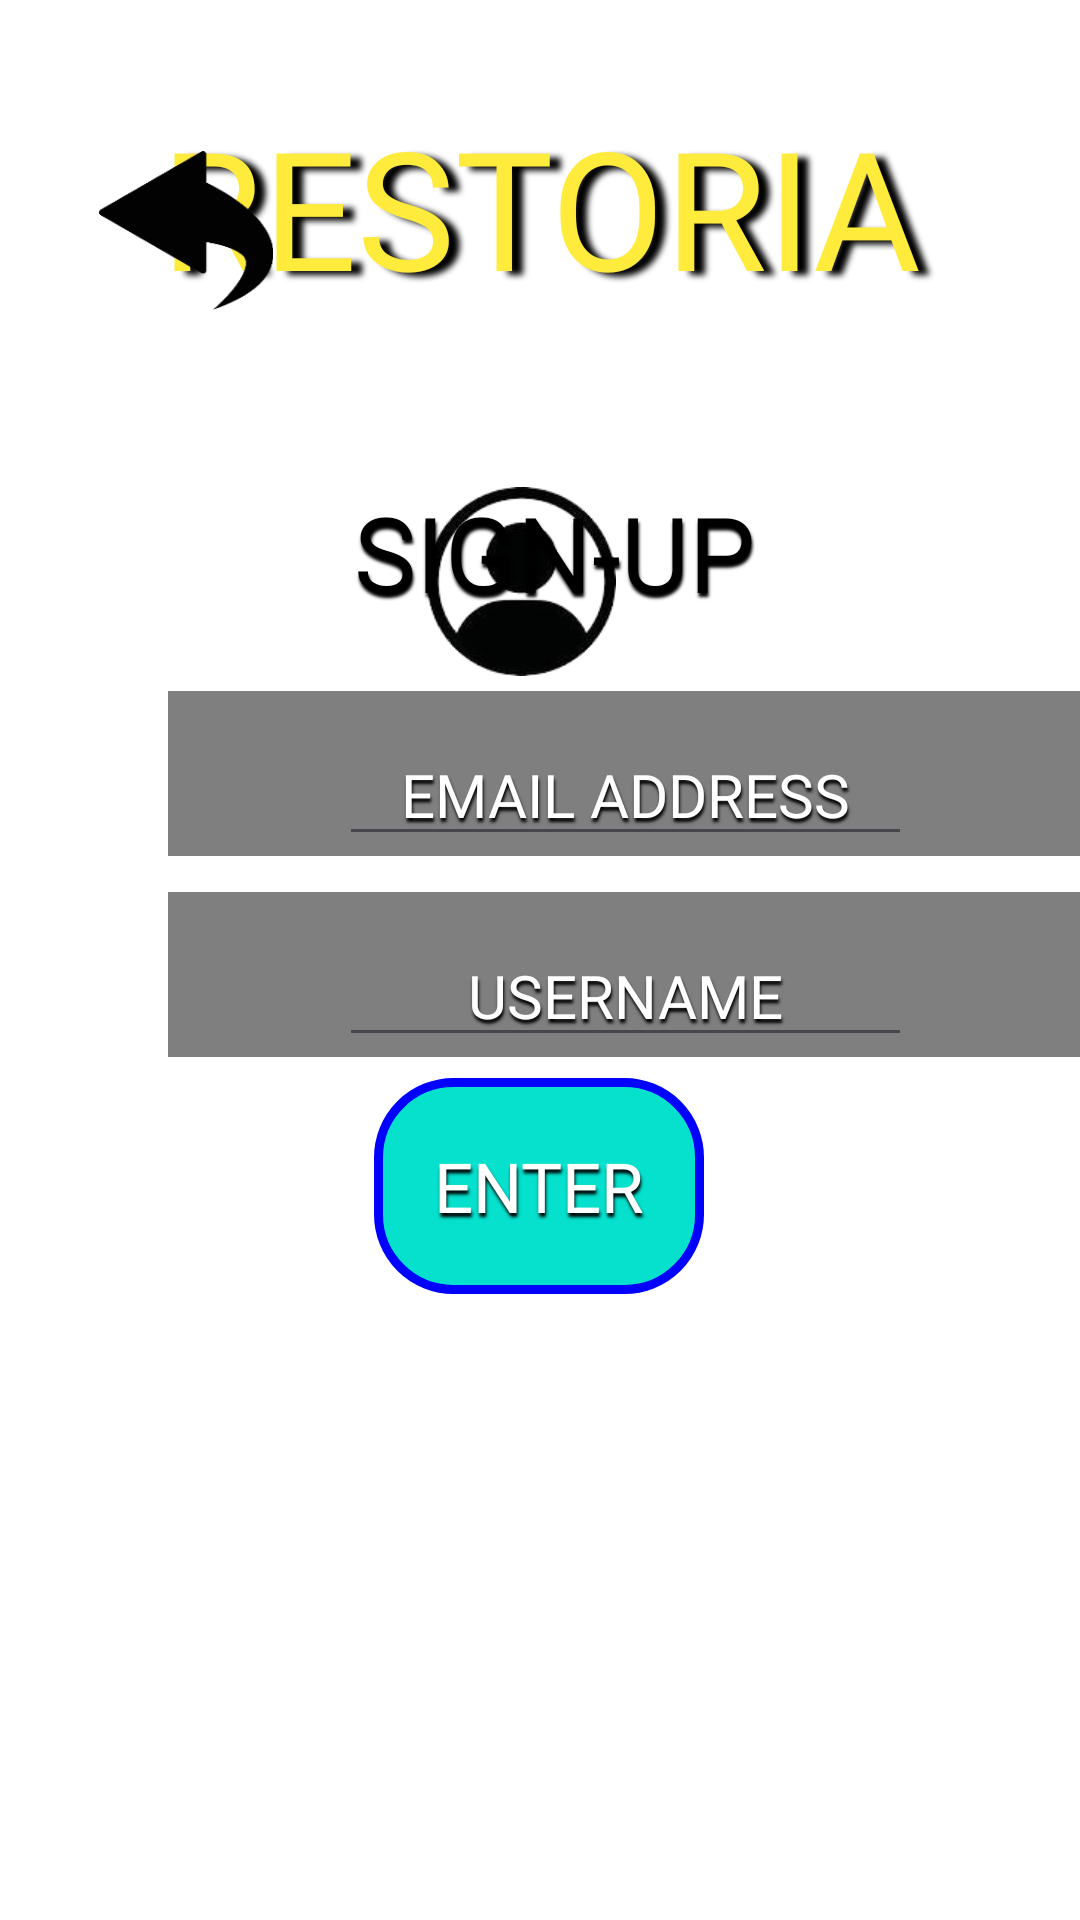

Icon bounding boxes for this 1080×1920 phone screenshot, format (x1, y1, x2, y2):
back: (99, 151, 273, 310)
